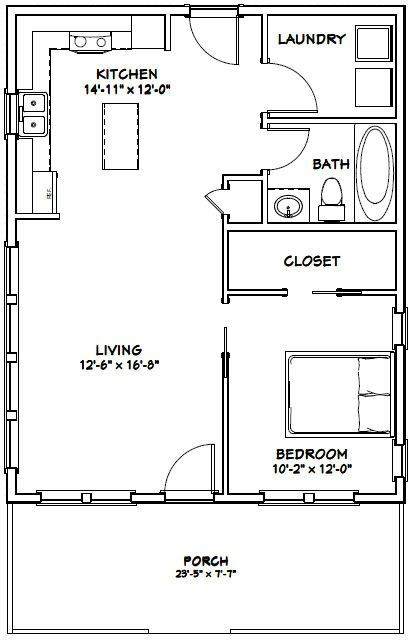door: (189, 16, 251, 72), (163, 439, 221, 497), (269, 60, 321, 111), (267, 128, 310, 164)
room: (21, 226, 225, 498), (229, 300, 402, 494), (18, 17, 185, 211), (265, 130, 395, 219), (272, 21, 388, 107)
wall: (394, 9, 409, 312), (12, 2, 193, 19), (231, 221, 404, 234), (240, 6, 410, 19), (3, 136, 23, 244), (271, 115, 397, 126), (393, 348, 406, 443), (2, 9, 17, 89), (221, 353, 229, 497), (215, 488, 262, 509), (219, 217, 230, 303), (339, 286, 403, 299), (227, 289, 290, 300), (359, 492, 406, 506), (129, 487, 164, 504), (4, 492, 38, 508), (257, 12, 268, 61), (259, 172, 270, 221), (222, 171, 261, 184), (160, 11, 173, 49), (4, 468, 17, 504), (27, 214, 66, 221)
window: (2, 249, 14, 462), (266, 488, 356, 511), (42, 490, 126, 508), (2, 93, 20, 132)
